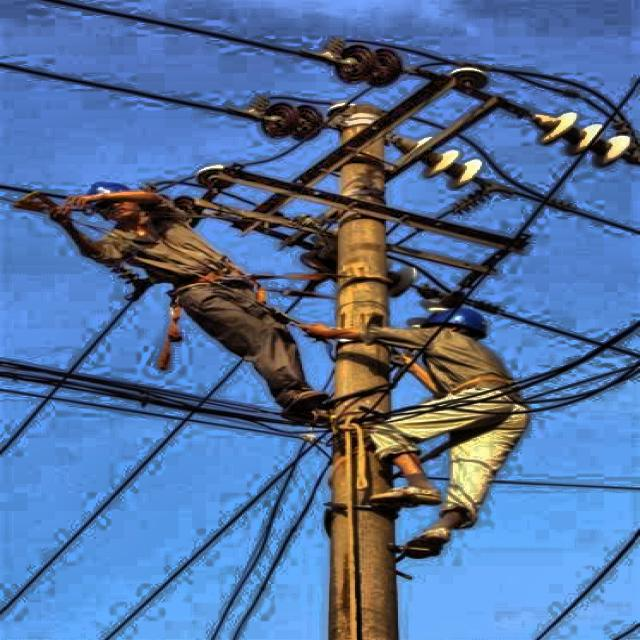helmet: (422, 301, 493, 355), (77, 178, 148, 224)
